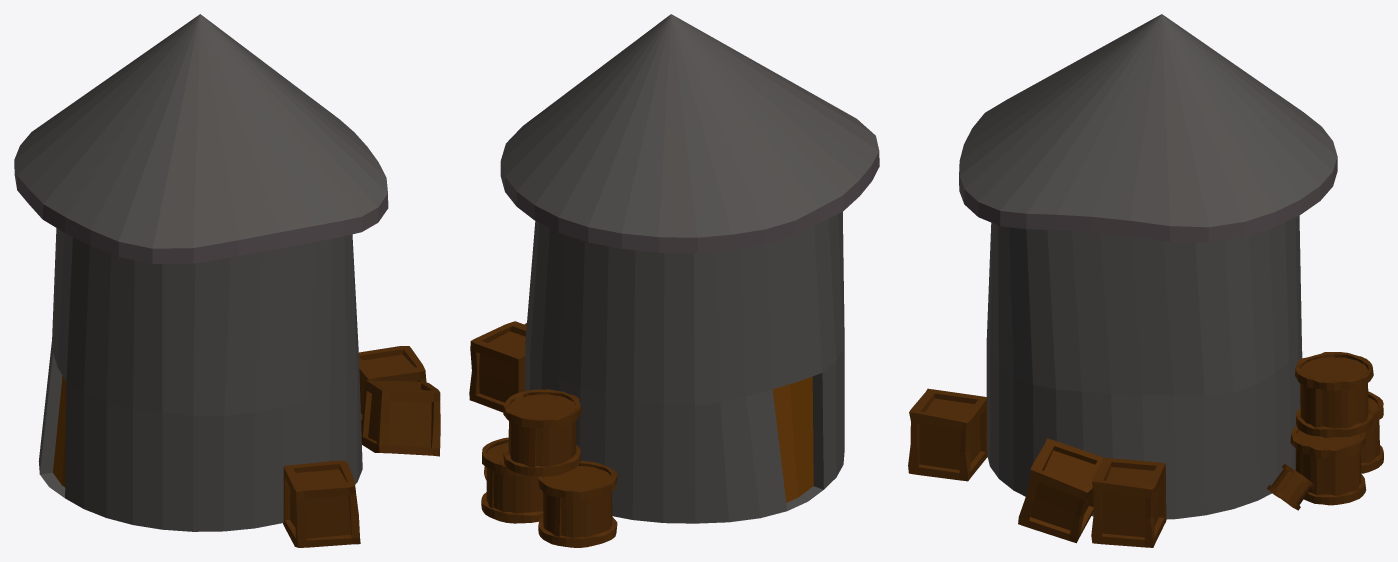
File: store.fbx
3 renders of one model, left to right at view 1: azimuth 30°, elevation 25°; view 2: azimuth 150°, elevation 25°; view 3: azimuth 270°, elevation 25°, orthographic.
Parts seen in each view (by area): view 1: storage; view 2: storage; view 3: storage.
Part boxes in pixels (x1=…): storage: x1=14, y1=14, x2=440, y2=547; storage: x1=469, y1=14, x2=879, y2=547; storage: x1=908, y1=14, x2=1383, y2=547.
Size of the model in its own units: 566 by 656 by 635.
